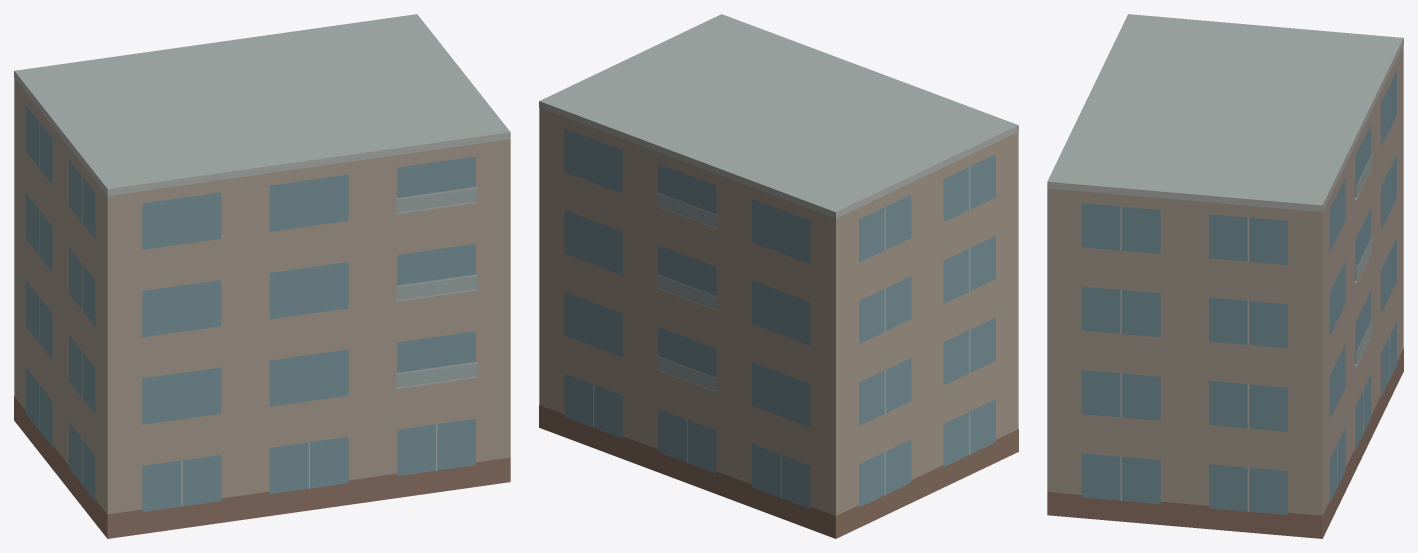
The model's file is residential-d1a3e11a-583f-46bc-b972-51ed3887c4a0.glb.
3 renders of one model, left to right at view 1: azimuth 30°, elevation 25°; view 2: azimuth 150°, elevation 25°; view 3: azimuth 270°, elevation 25°, orthographic. The views are drawn at different scales.
Visible parts, largest first — view 1: residential-d1a3e11a-583f-46bc-b972-51ed3887c4a0.tmp; view 2: residential-d1a3e11a-583f-46bc-b972-51ed3887c4a0.tmp; view 3: residential-d1a3e11a-583f-46bc-b972-51ed3887c4a0.tmp.
Part boxes in pixels (x1=…): residential-d1a3e11a-583f-46bc-b972-51ed3887c4a0.tmp: x1=14, y1=14, x2=510, y2=538; residential-d1a3e11a-583f-46bc-b972-51ed3887c4a0.tmp: x1=539, y1=14, x2=1018, y2=538; residential-d1a3e11a-583f-46bc-b972-51ed3887c4a0.tmp: x1=1047, y1=14, x2=1403, y2=538.
Bounding box in the file's own units: 15.03 × 12.2 × 11.83.
